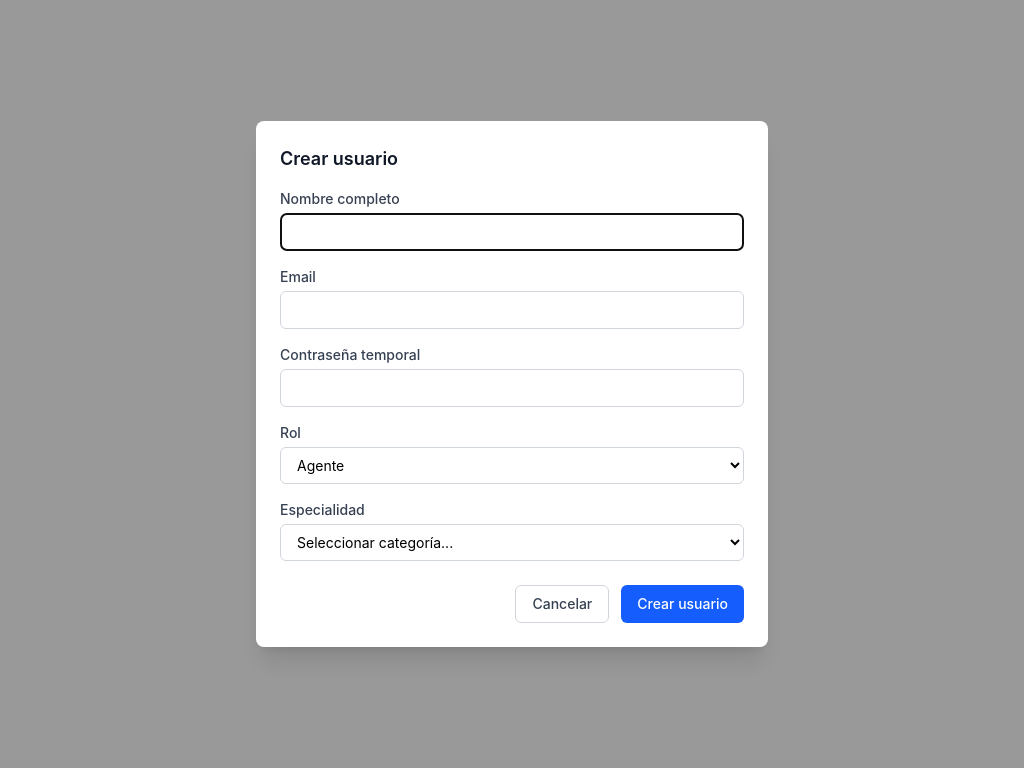
Scenario: CreateUserModal › does not submit when role is agent and no category was selected (categoryId required)
Type "Jane Doe" into the field labelled "Nombre completo".
click(512, 232); type("Jane Doe")  # box [280,213,744,251]
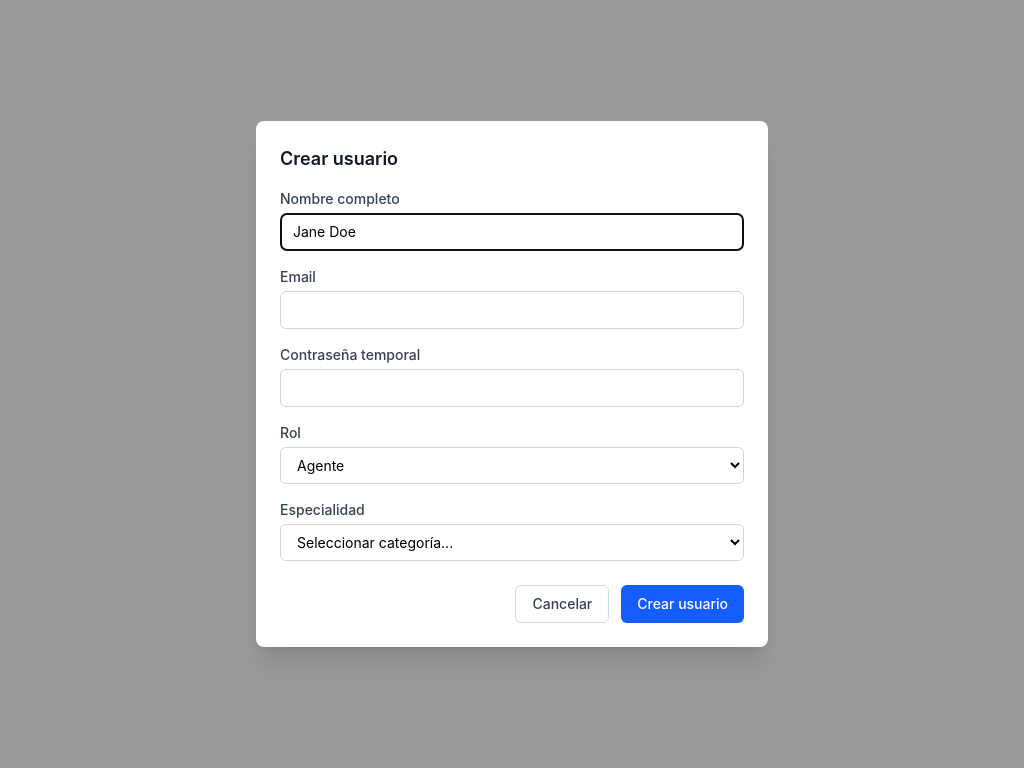
Type "jane@example.com" into the field labelled "Email".
click(512, 310); type("jane@example.com")  # box [280,291,744,329]
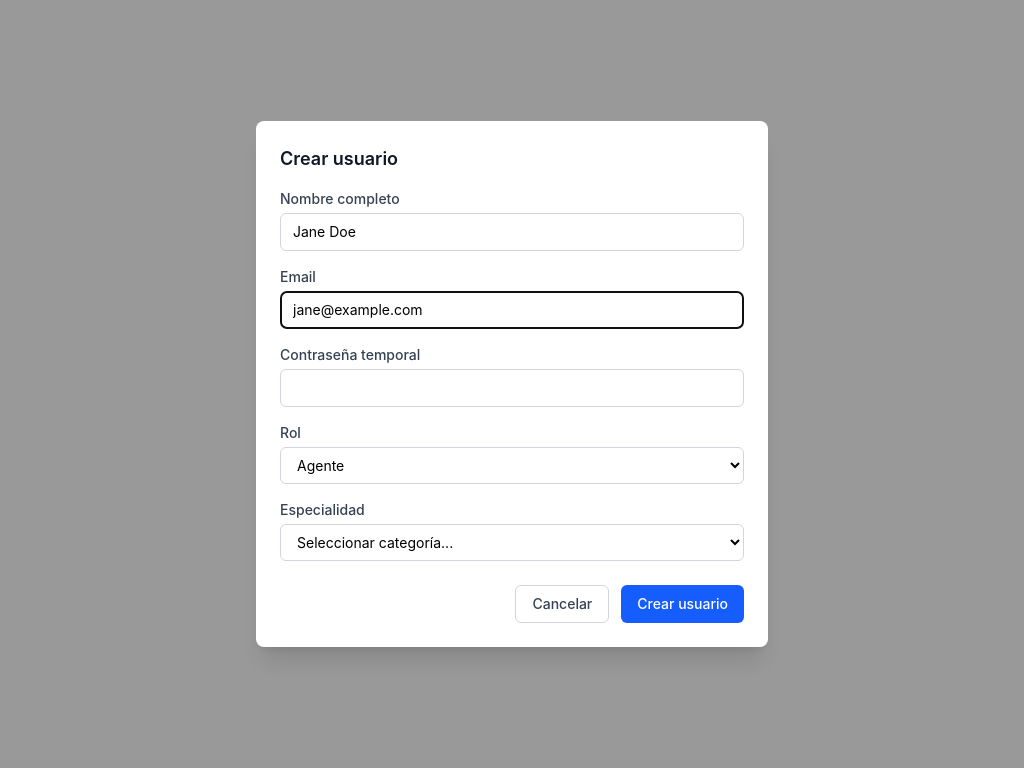
Type "secret123" into the password field labelled "Contraseña temporal".
click(512, 388); type("secret123")  # box [280,369,744,407]
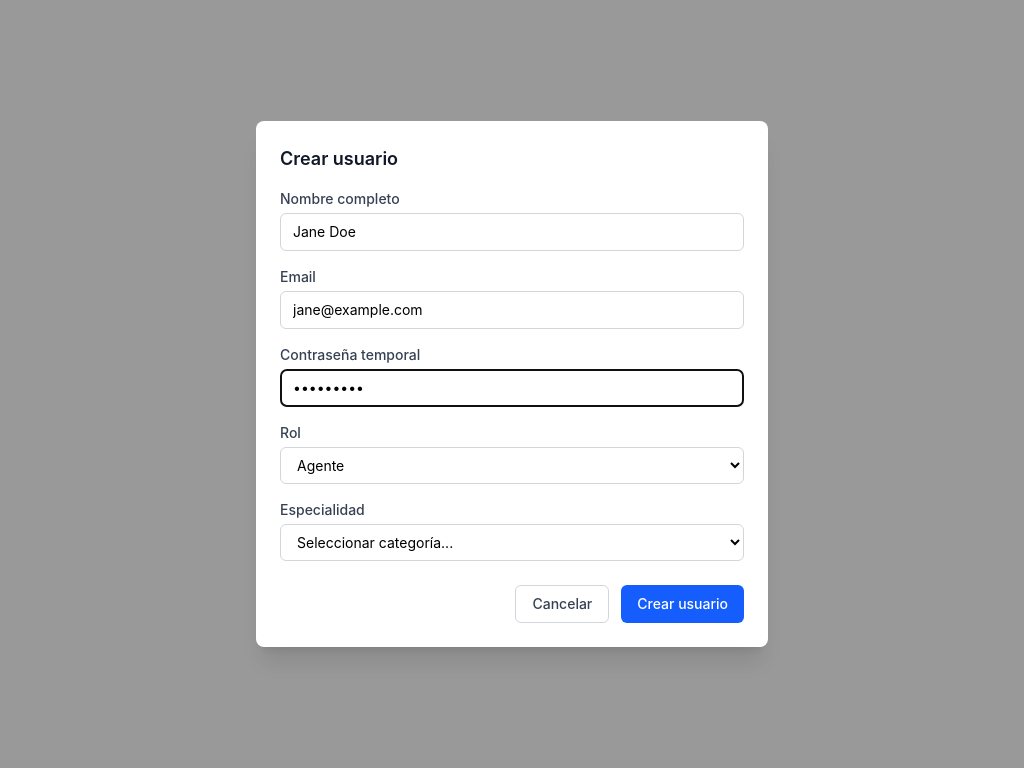
Click the button "Crear usuario".
click(683, 604)  # box [621,585,744,623]
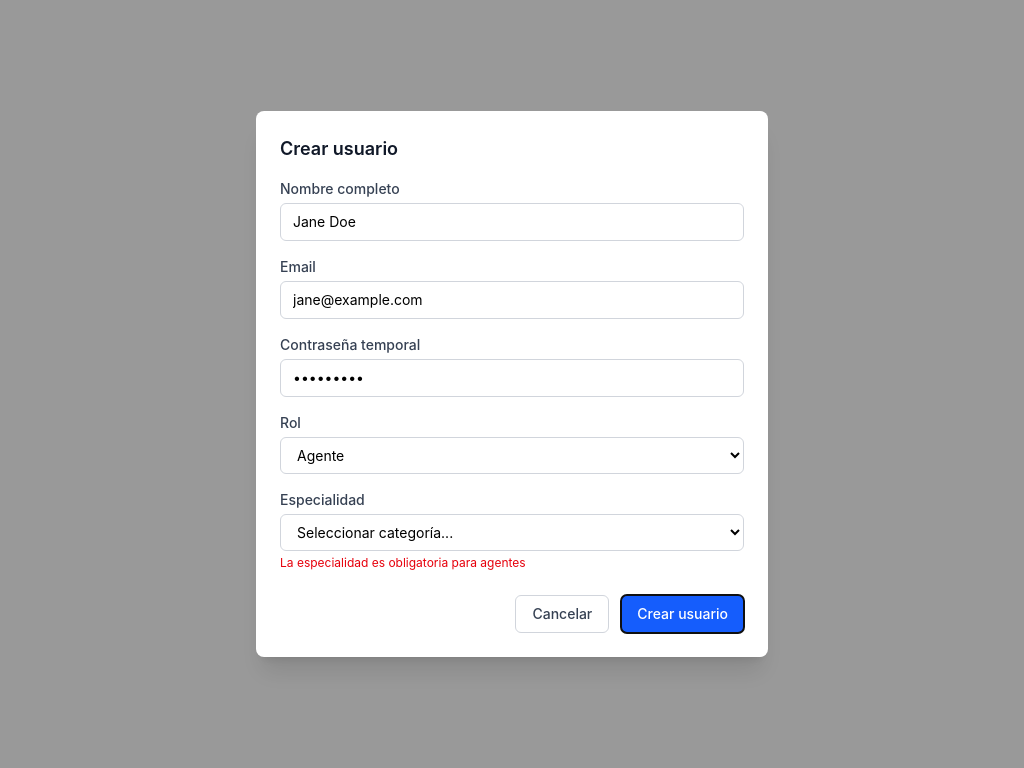
Now the text "La especialidad es obligatoria para agentes" is shown, box [280,555,526,570]
